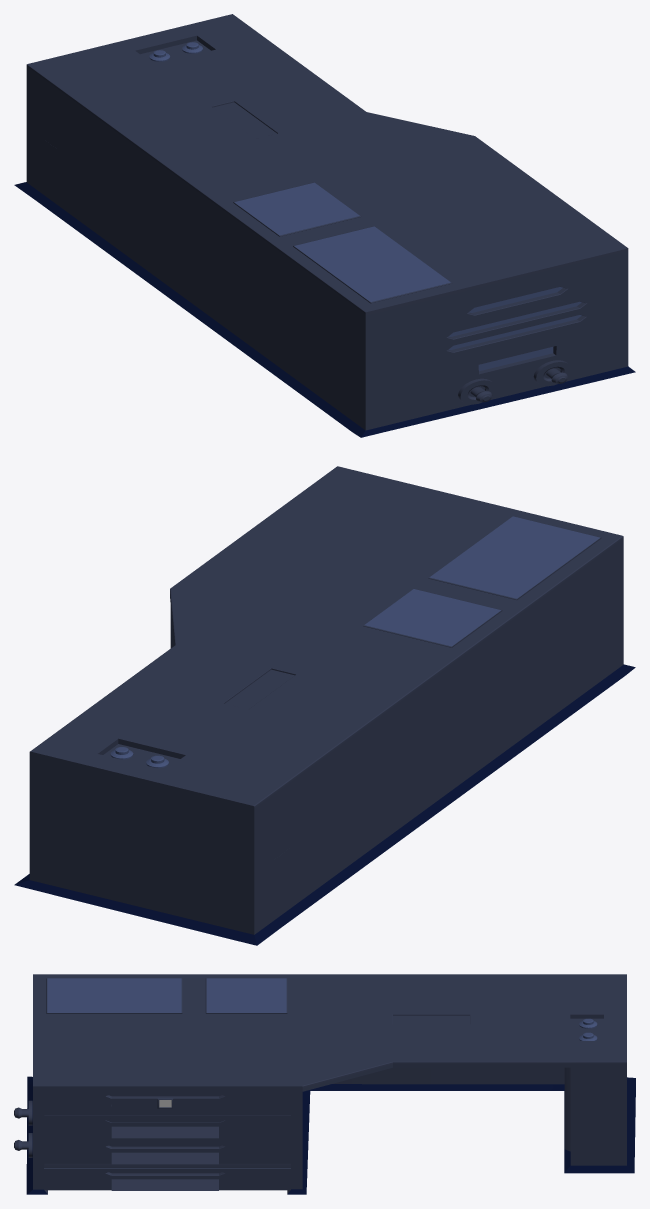
File: desk.fbx
3 renders of one model, top to bottom at view 1: azimuth 30°, elevation 25°; view 2: azimuth 150°, elevation 25°; view 3: azimuth 270°, elevation 25°, orthographic. The views are drawn at different scales.
Visible parts, largest first — view 1: desk_3:desk_base, desk_3:board1, desk_3:board2, desk_3:button1, desk_3:button2; view 2: desk_3:desk_base, desk_3:board1, desk_3:board2; view 3: desk_3:desk_base, desk_3:drawer3, desk_3:drawer6, desk_3:drawer5, desk_3:drawer4, desk_3:board1, desk_3:board2.
Part boxes in pixels (left/top/right/bottom): desk_3:desk_base: left=14, top=14, right=635, bottom=437; desk_3:board1: left=293, top=226, right=452, bottom=303; desk_3:board2: left=233, top=182, right=361, bottom=236; desk_3:button1: left=458, top=378, right=496, bottom=404; desk_3:button2: left=533, top=360, right=571, bottom=386; desk_3:desk_base: left=14, top=466, right=635, bottom=945; desk_3:board1: left=428, top=516, right=601, bottom=599; desk_3:board2: left=363, top=588, right=502, bottom=647; desk_3:desk_base: left=26, top=974, right=635, bottom=1194; desk_3:drawer3: left=44, top=1091, right=290, bottom=1113; desk_3:drawer6: left=44, top=1168, right=290, bottom=1190; desk_3:drawer5: left=44, top=1142, right=290, bottom=1164; desk_3:drawer4: left=44, top=1115, right=290, bottom=1138; desk_3:board1: left=46, top=978, right=182, bottom=1013; desk_3:board2: left=205, top=978, right=287, bottom=1013.
Bounding box in the file's own units: 7.07 × 3.03 × 15.76.
